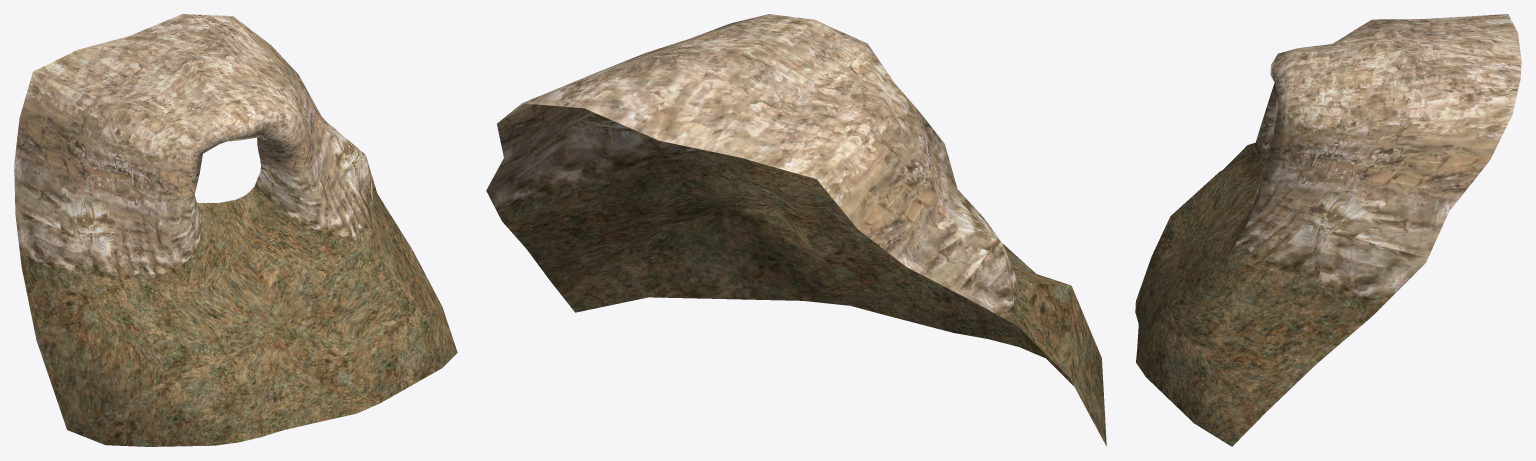
The model's file is thm_all_cave_s01_mirror_r0_mesh_l2.fbx.
The picture shows the model from 3 angles, left to right: view 1: azimuth 30°, elevation 25°; view 2: azimuth 150°, elevation 25°; view 3: azimuth 270°, elevation 25°; orthographic projection. The views are drawn at different scales.
Parts seen in each view (by area): view 1: mesh_node; view 2: mesh_node; view 3: mesh_node.
Boxes of the visible parts, x1,y1,x2,y2 form: mesh_node: (14, 14, 457, 446); mesh_node: (486, 14, 1106, 445); mesh_node: (1135, 14, 1521, 446).
Size of the model in its own units: 48.32 by 34.16 by 39.34.
